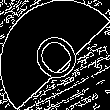O_SE: (23, 21, 87, 89)
